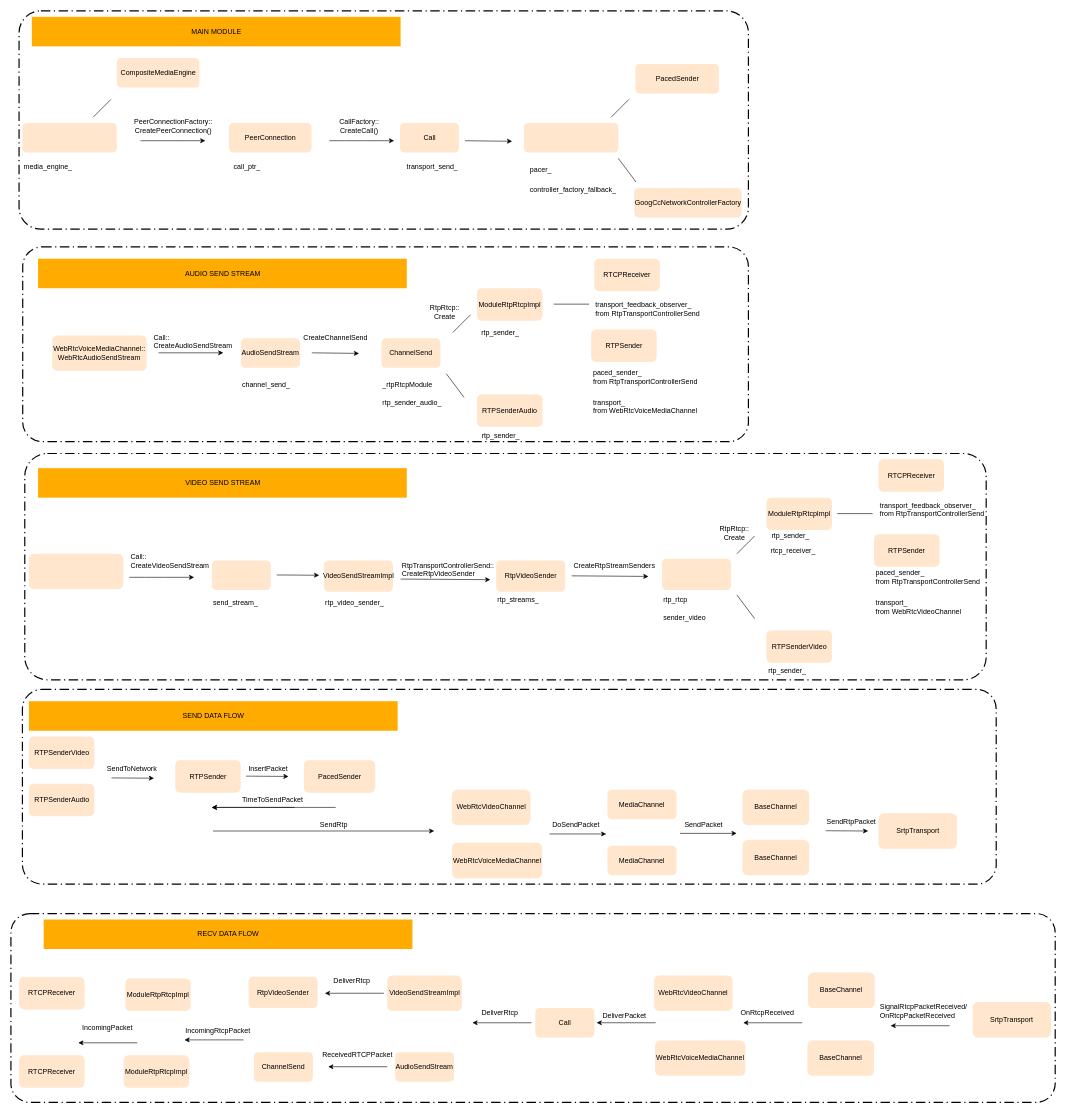
Image size: 1066x1113. Some labels were removed from this diagram. The box of each missing label's shape, as (x1, y1, x2, y2) in pixels:
PeerConnectionFactory: (22, 123, 117, 152)
RtpStreamSender: (662, 558, 731, 590)
RtpTransportControllerSend: (524, 123, 618, 152)
VideoSendStream: (212, 560, 271, 590)
WebRtcVideoChannel:: WebRtcVideoSendStream: (29, 553, 123, 589)
